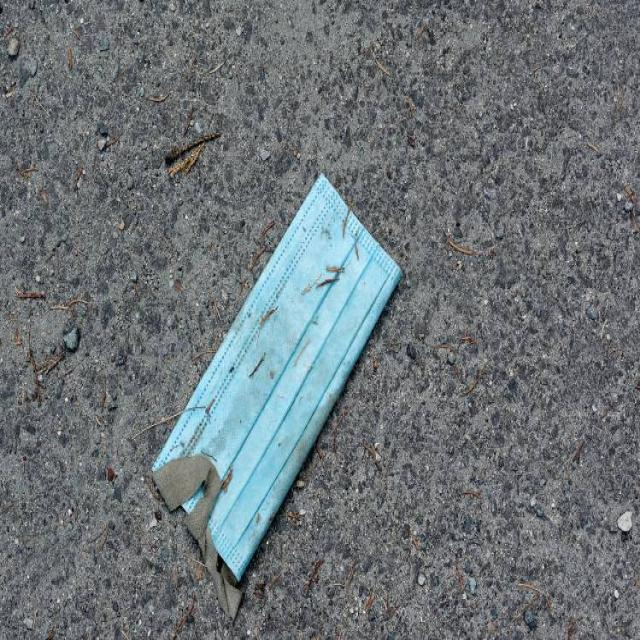face mask: (153, 180, 406, 580)
